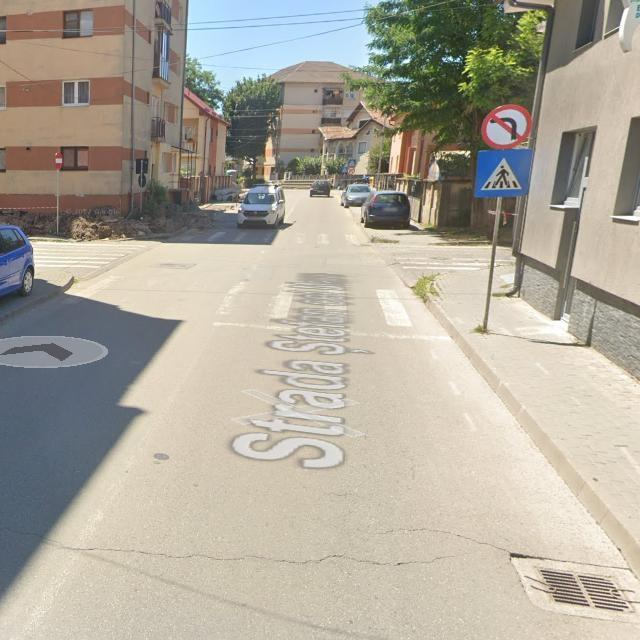info_crosswalk: (474, 147, 533, 197)
